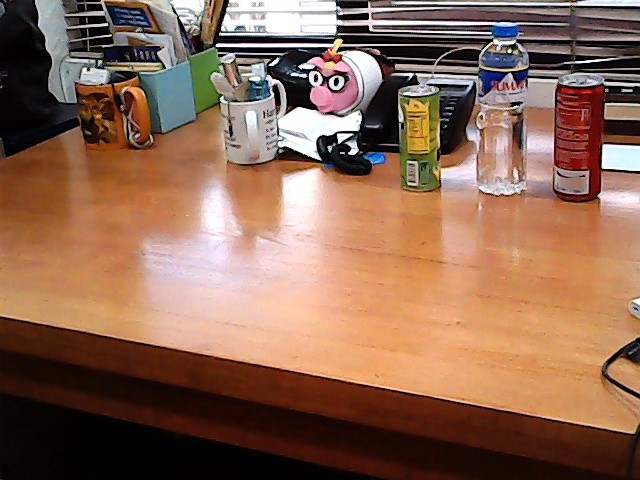Cola: (551, 68, 609, 205)
Pine Juice: (401, 87, 439, 191)
Summit Water: (474, 22, 533, 198)
